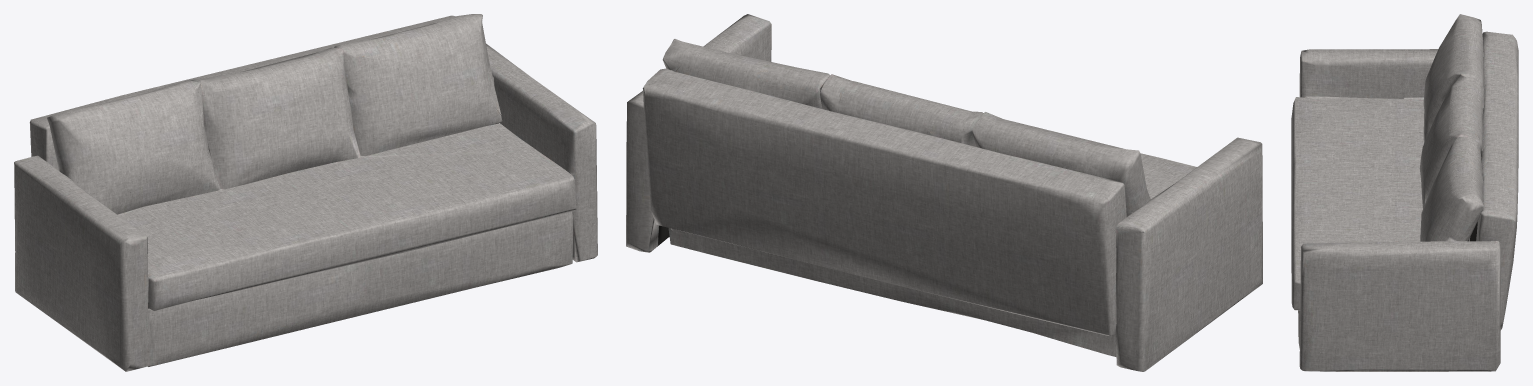
Rendered from friheten_sofa_3_osobowa_rozkadana_60551225.glb.
The picture shows the model from 3 angles, left to right: view 1: azimuth 30°, elevation 25°; view 2: azimuth 150°, elevation 25°; view 3: azimuth 270°, elevation 25°; orthographic projection. The views are drawn at different scales.
Parts seen in each view (by area): view 1: friheten_sofa_3_osobowa_rozkadana_60551225; view 2: friheten_sofa_3_osobowa_rozkadana_60551225; view 3: friheten_sofa_3_osobowa_rozkadana_60551225.
Part boxes in pixels (<box>): friheten_sofa_3_osobowa_rozkadana_60551225: <box>14,14,597,371</box>; friheten_sofa_3_osobowa_rozkadana_60551225: <box>626,14,1262,371</box>; friheten_sofa_3_osobowa_rozkadana_60551225: <box>1291,14,1518,371</box>.
Bounding box in the file's own units: 2.27 × 0.8462 × 1.05.
9 materials, 9 textured.
